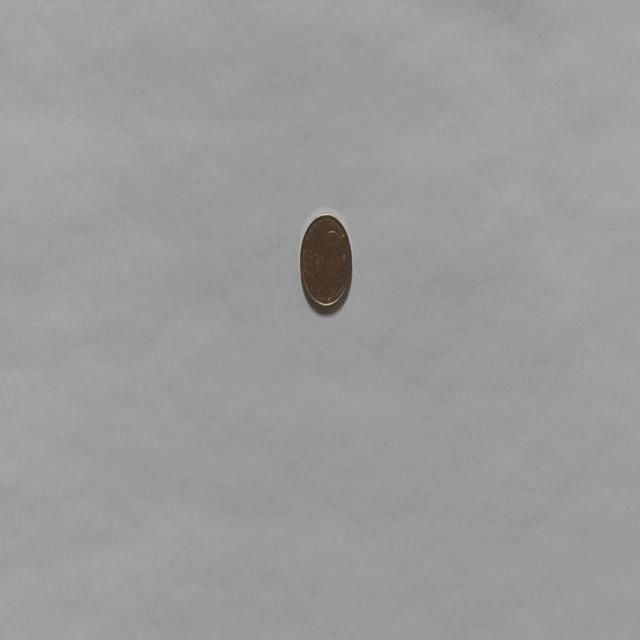seribu rupiah koin: (298, 210, 352, 314)
